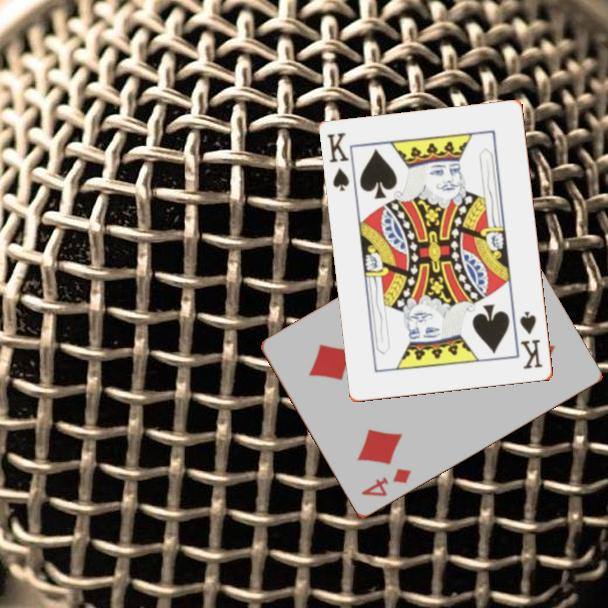d04: (357, 465, 414, 500)
s13: (516, 308, 546, 372), (324, 129, 352, 194)
